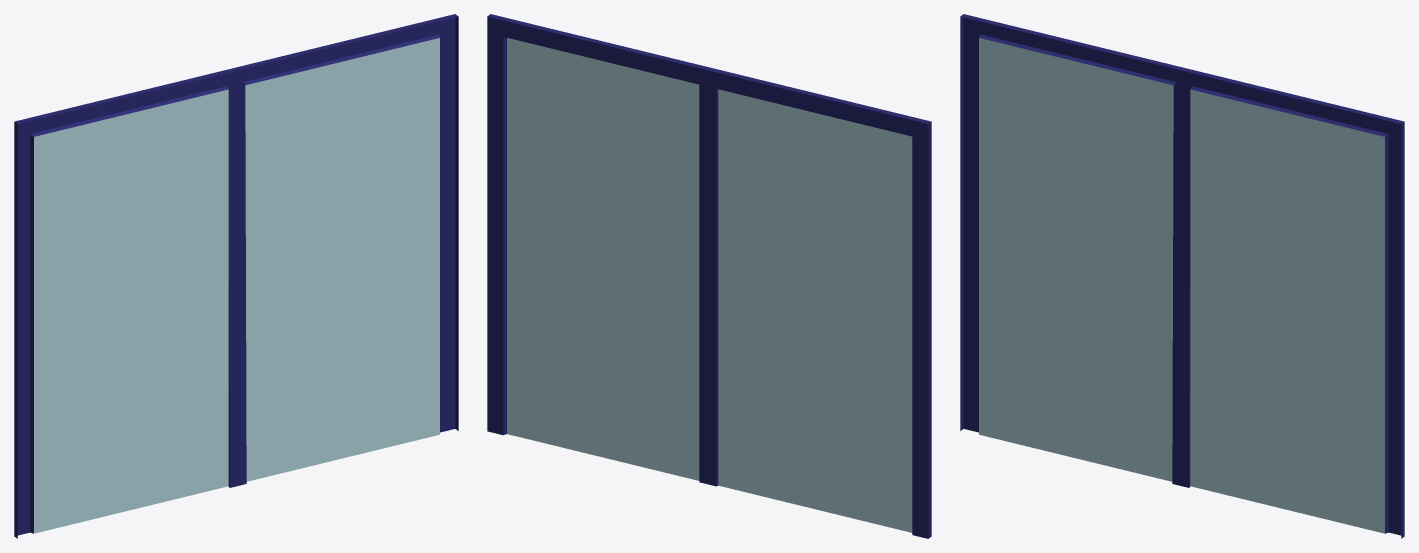
The model's file is maindoor.fbx.
3 views of the same model, side by side, from view 1: azimuth 30°, elevation 25°; view 2: azimuth 150°, elevation 25°; view 3: azimuth 330°, elevation 25° (orthographic).
Parts seen in each view (by area): view 1: Window9; view 2: Window9; view 3: Window9.
Part boxes in pixels (box(x1,y1,x2,y2)): Window9: box(14, 14, 458, 538); Window9: box(487, 14, 931, 538); Window9: box(960, 14, 1404, 538).
Bounding box in the file's own units: 2.76 × 2.48 × 0.0372.
